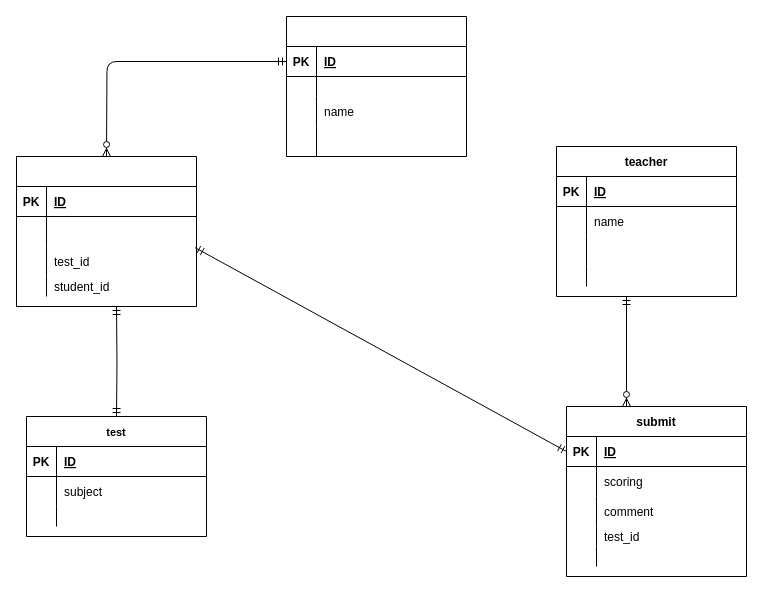
Image size: 763x593. Some labels were removed from this diagram. The box of each missing label's shape, as (x1, y1, x2, y2) in pixels:
request: (16, 156, 196, 306)
student: (286, 16, 466, 156)
